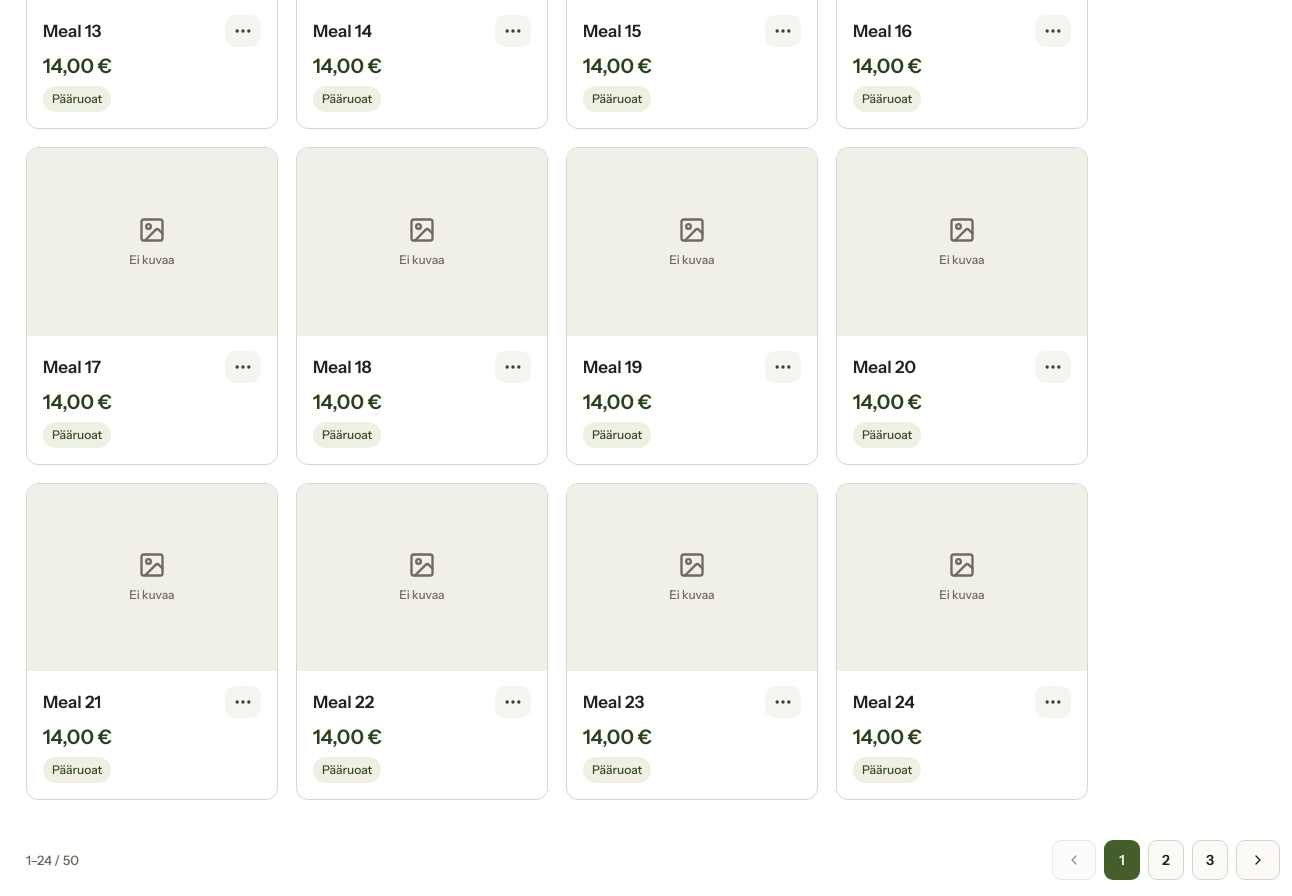
it: TW-05 CRUD dialogs › coordinates search and pagination without losing the empty-state clear action
(page scrolled)
Click the button named "Seuraava sivu" at x=1258, y=860, box [1236,840,1280,880]
(page scrolled)
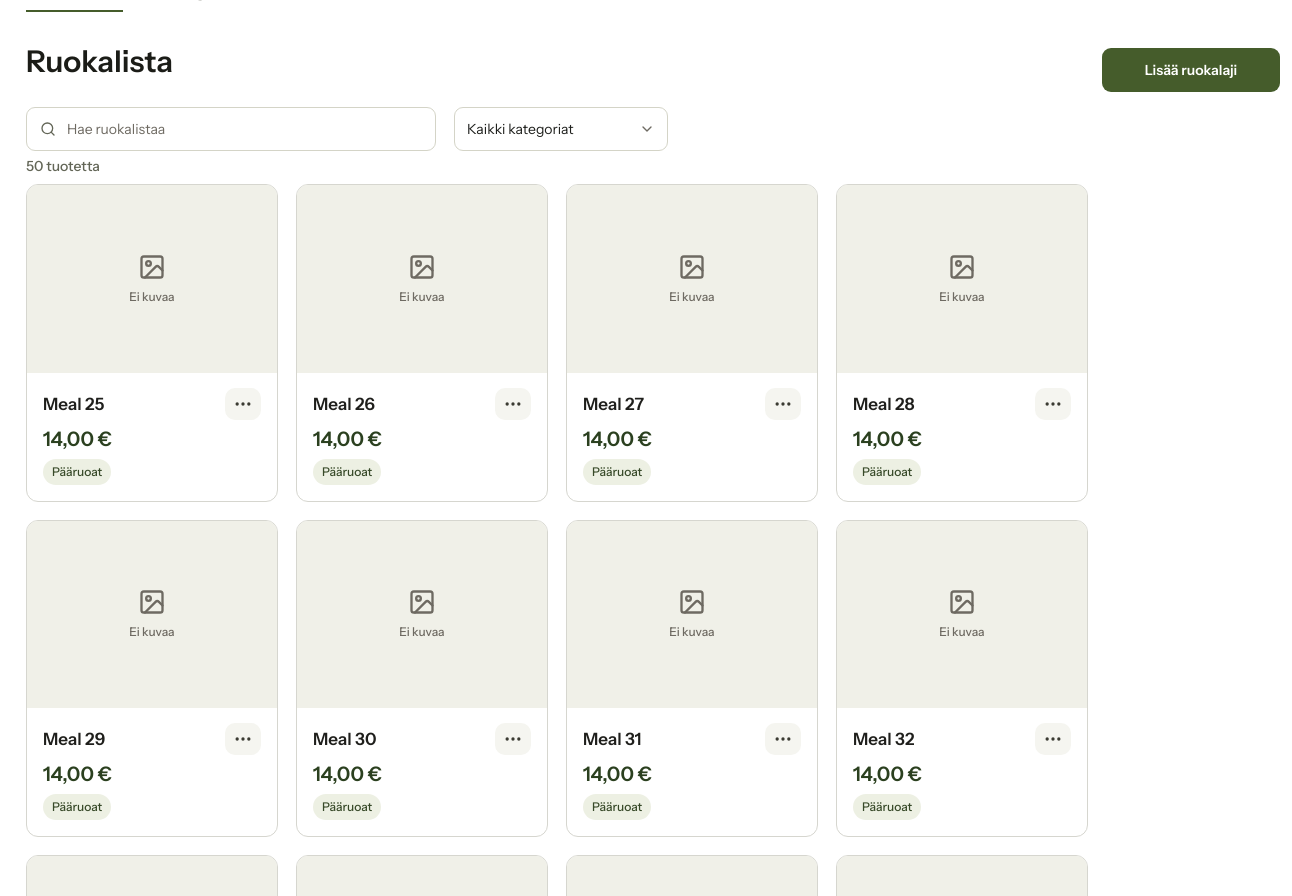
Type "Meal 50" into the field labelled "Hae ruokalistaa" at x=231, y=129, box [26,107,436,151]
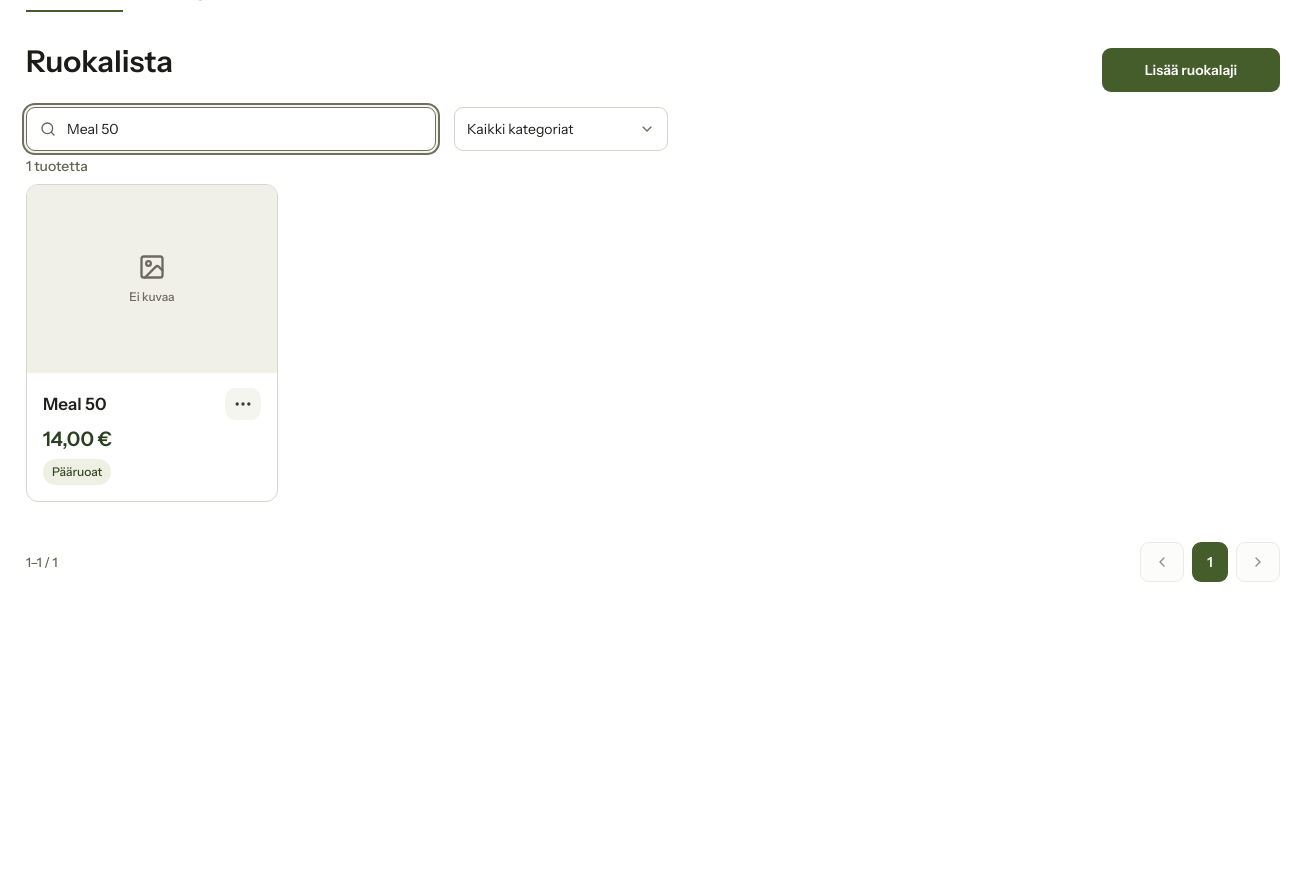
Now the heading "Meal 50" is shown, box [43,392,106,414]
Type " missing" into the field named "Hae ruokalistaa" at x=231, y=129, box [26,107,436,151]
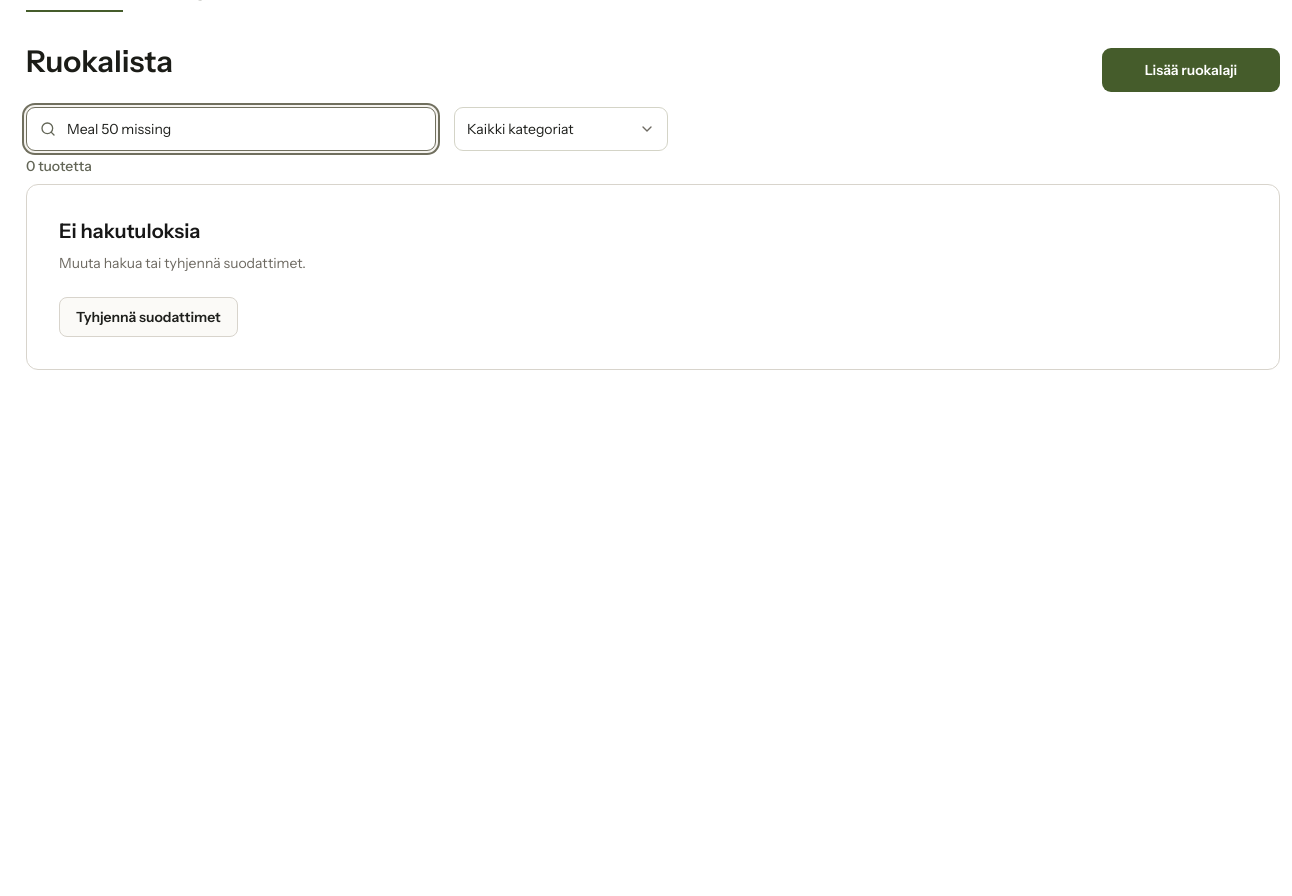
Now the heading "Ei hakutuloksia" is shown, box [59,219,200,243]
Click the button "Tyhjennä suodattimet" at x=148, y=317, box [59,297,238,337]
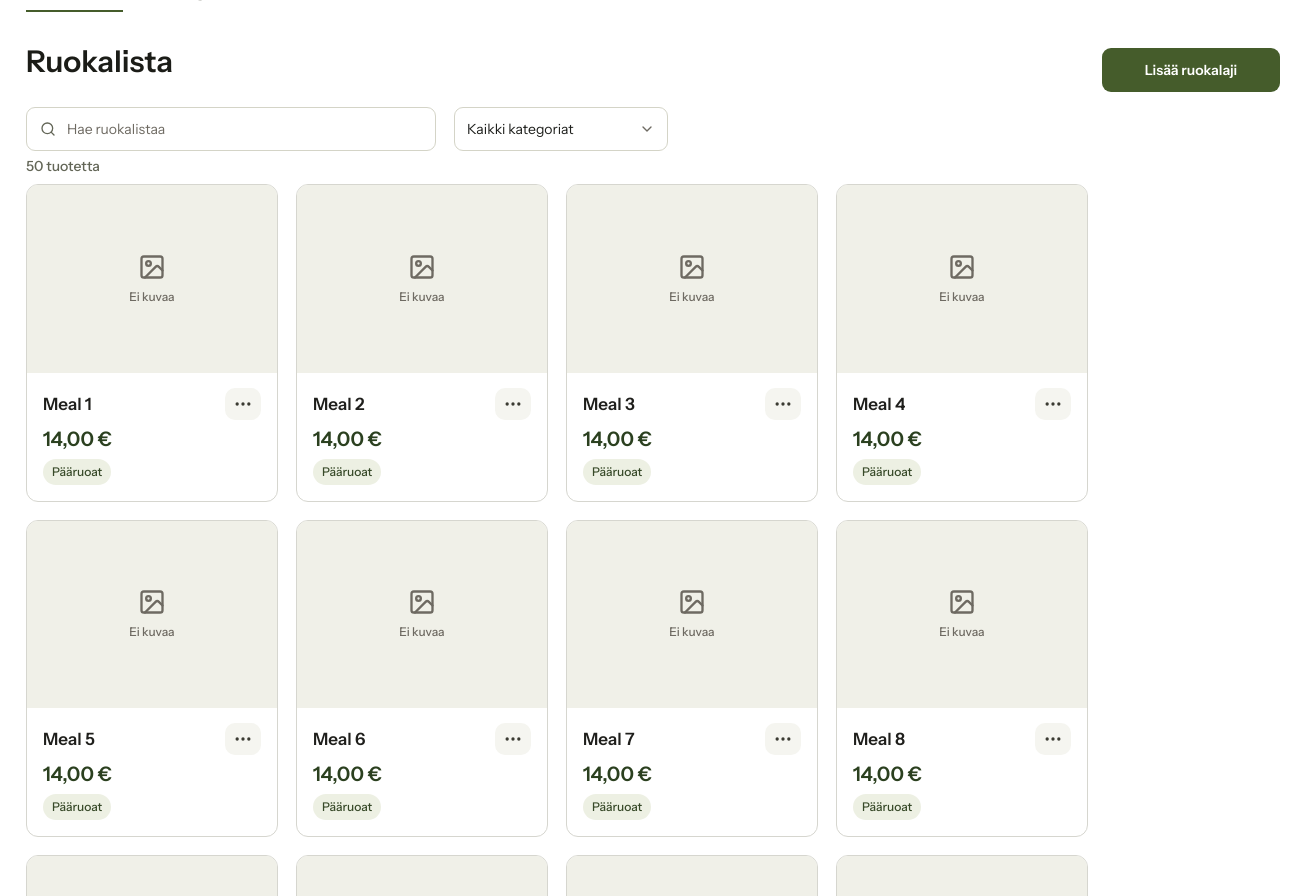
Now the heading "Meal 1" is shown, box [43,392,92,414]
Now the field labelled "Hae ruokalistaa" is empty, box [26,107,436,151]
